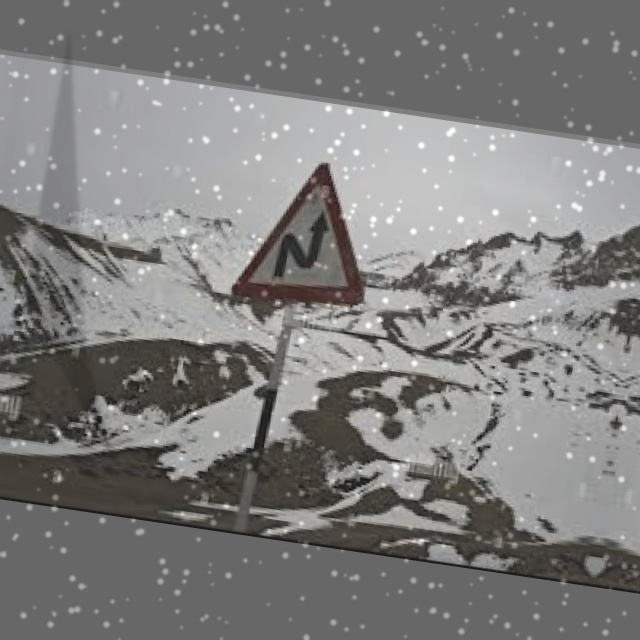Right_Reverse_Bend: (240, 154, 382, 320)
